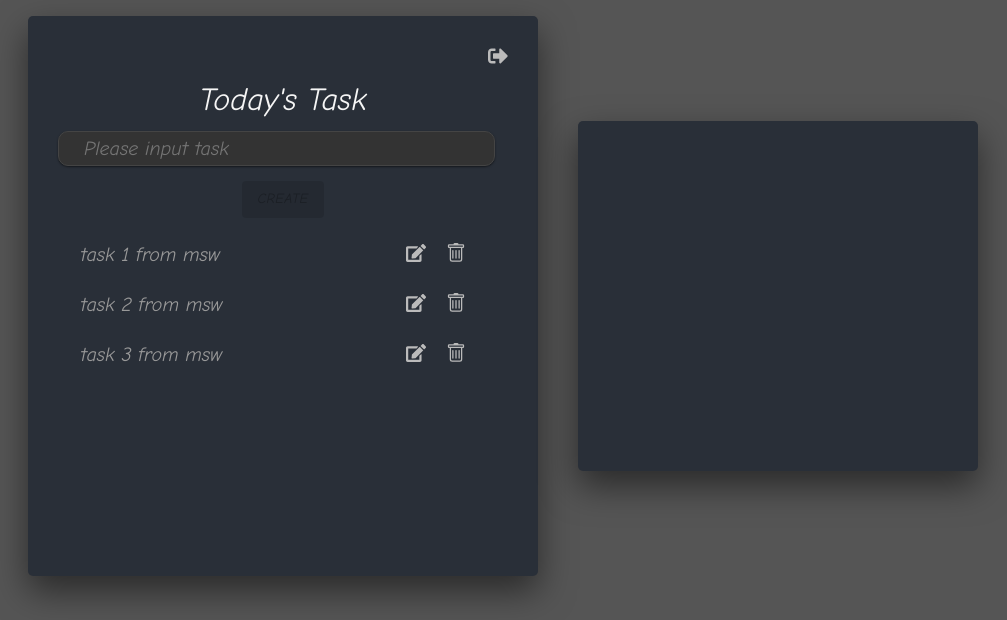
Test: タスクページ › タスク一覧のタスククリック時 › タスク詳細にタスクの情報が表示されること
Expected: the text "task 3 from msw" is shown, 80,342 -> 222,366
Click the text with test id "task-name" showing "task 1 from msw".
click(150, 254)  # box 80,242 -> 220,266
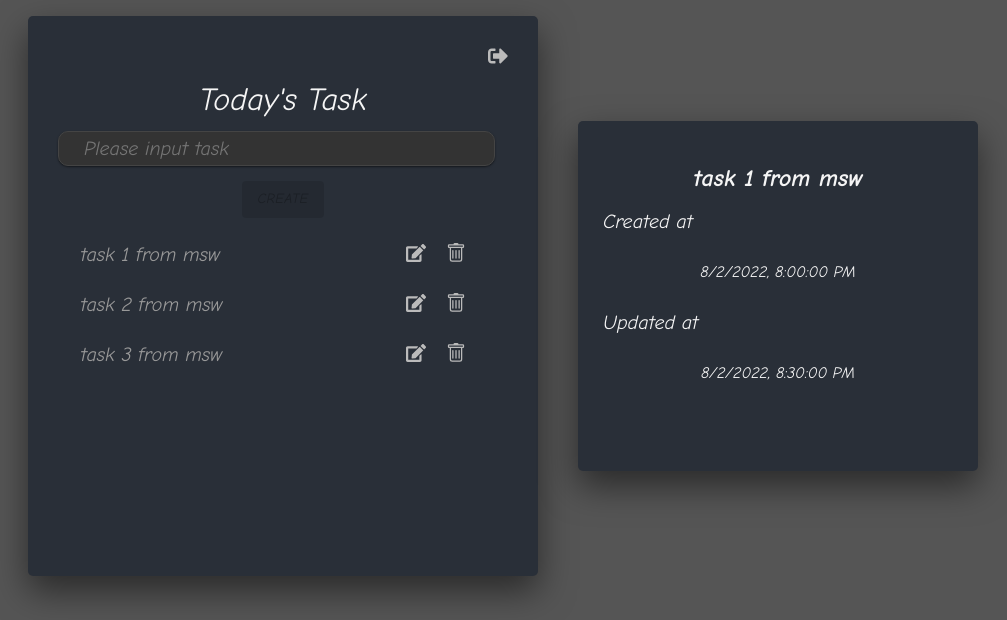
Expected: the heading with test id "task-name" reads "task 1 from msw", 693,164 -> 863,192
